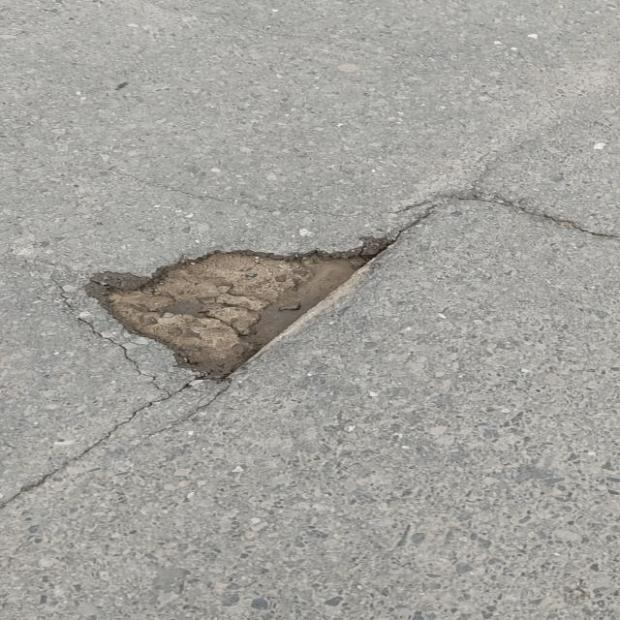lubang: (90, 238, 393, 377)
